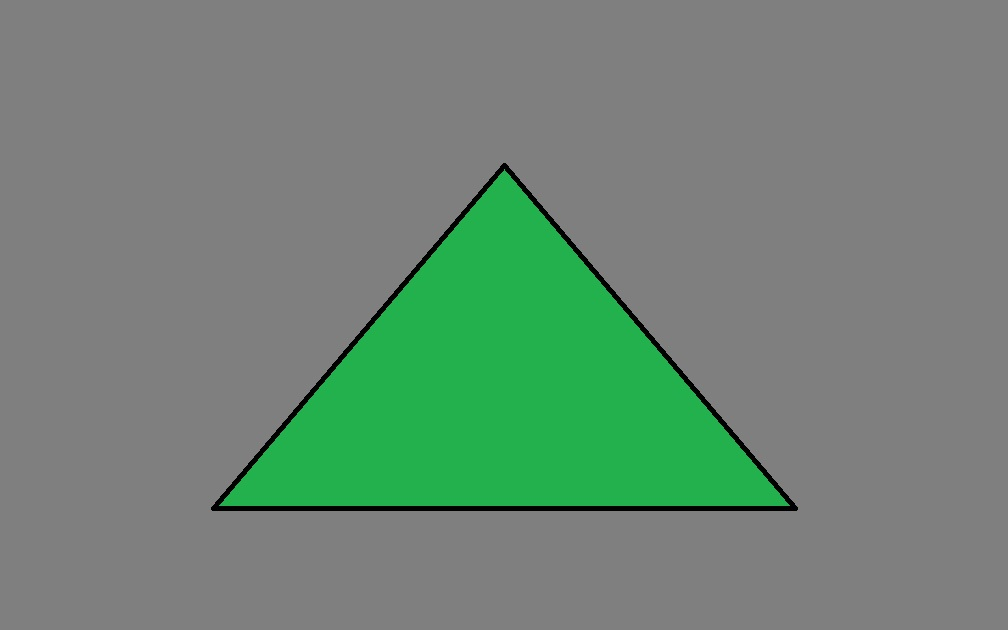triangulo: (211, 161, 797, 514)
